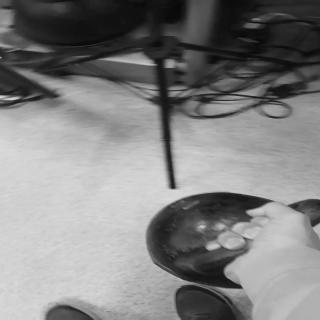kettlebell: (145, 192, 320, 290)
